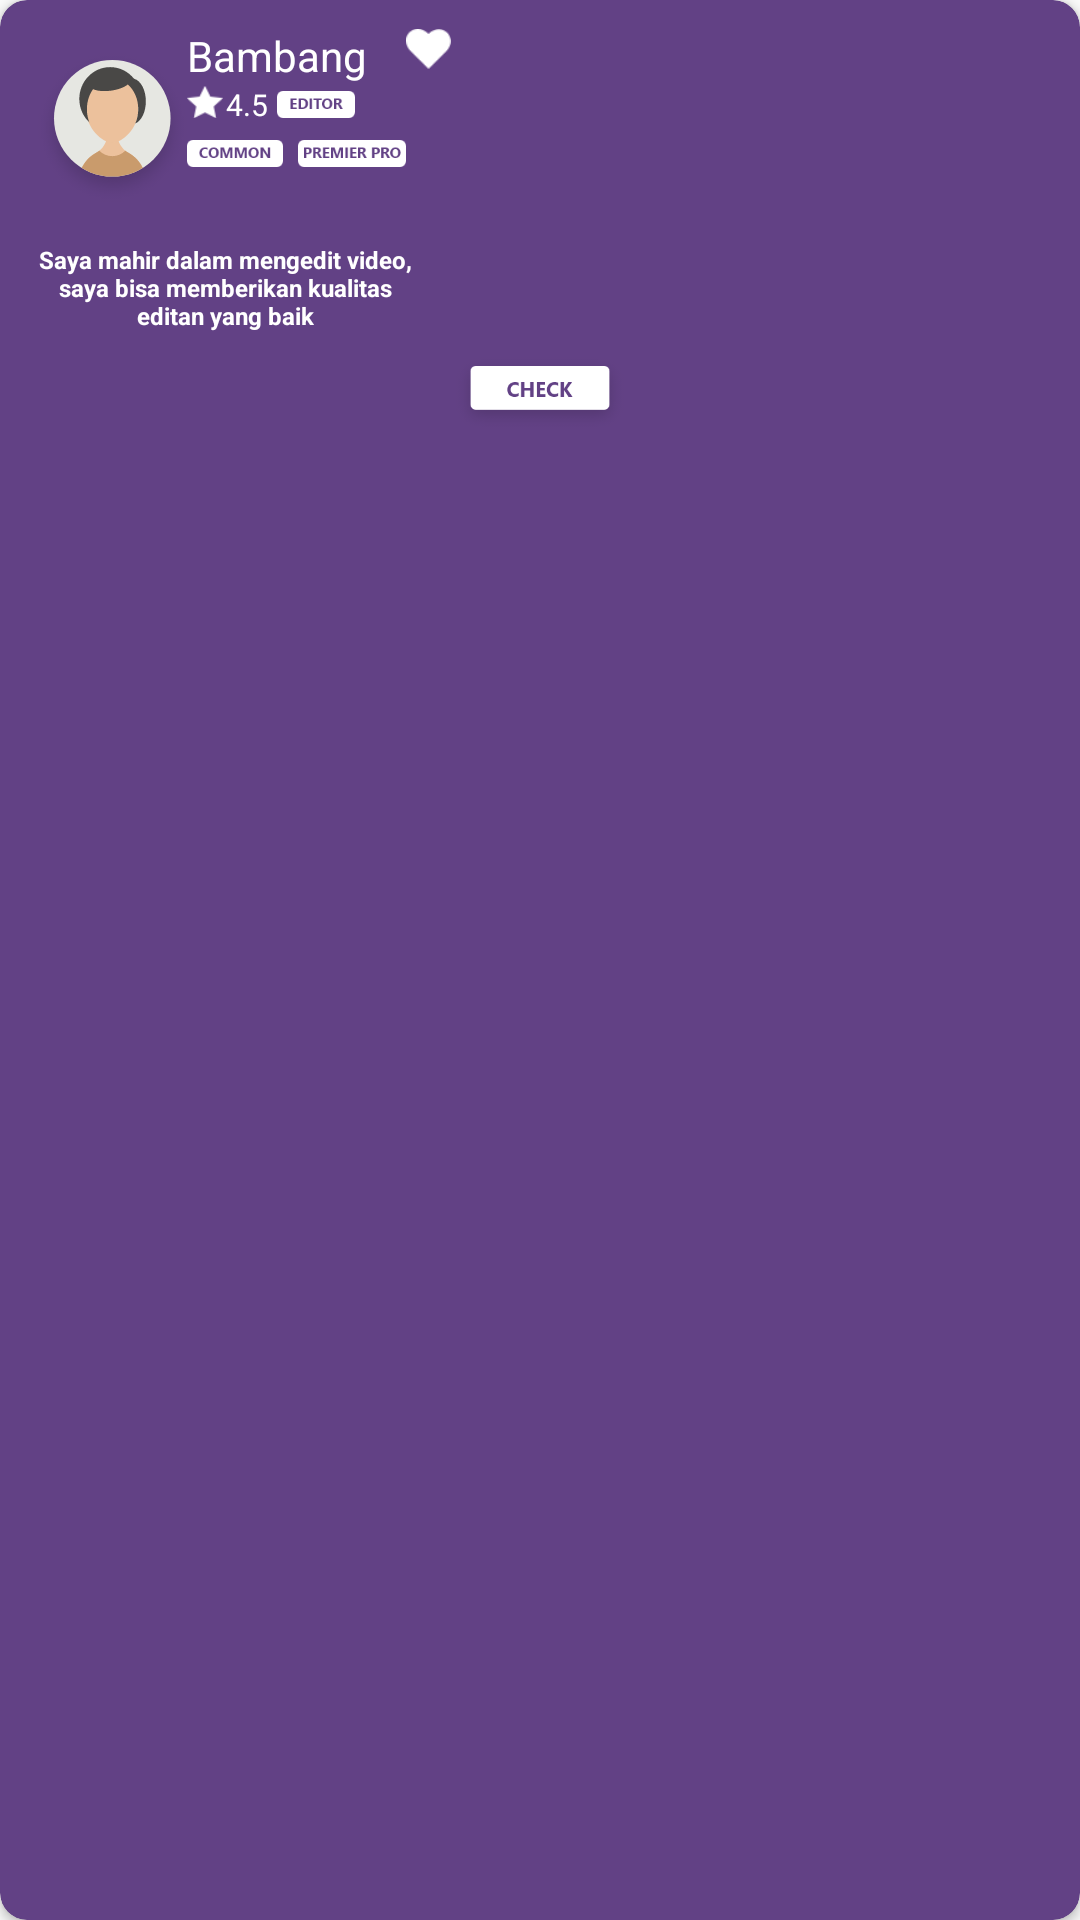

Named icons in this screenshot (1080x1920) and their bounding boxes, (x1, y1, x2, y2):
bintang: (187, 86, 223, 118)
lovekecil: (406, 29, 451, 69)
